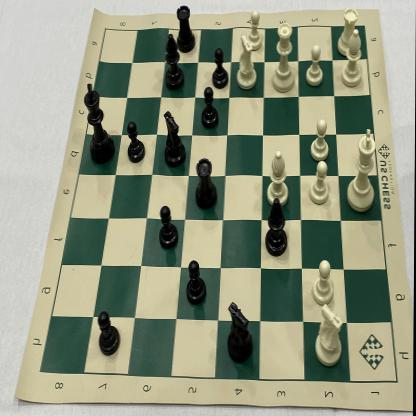black-bishop: (263, 197, 290, 262), (164, 30, 185, 95)
black-king: (81, 78, 118, 168)
black-knight: (225, 299, 256, 366), (161, 106, 187, 172)
black-pawn: (95, 308, 122, 360), (184, 254, 209, 308), (158, 200, 181, 255), (124, 120, 147, 168), (199, 85, 221, 132), (210, 45, 232, 90)
black-rook: (193, 152, 220, 213), (175, 0, 199, 55)
white-bishop: (338, 27, 367, 91), (264, 146, 293, 210)
white-king: (343, 124, 380, 217)
white-knight: (313, 302, 347, 371), (234, 32, 260, 93)
white-pawn: (312, 256, 337, 307), (308, 114, 333, 164), (308, 157, 332, 209), (242, 7, 267, 52), (303, 42, 327, 87)
white-queen: (269, 21, 299, 97)
white-rook: (332, 3, 363, 60)
